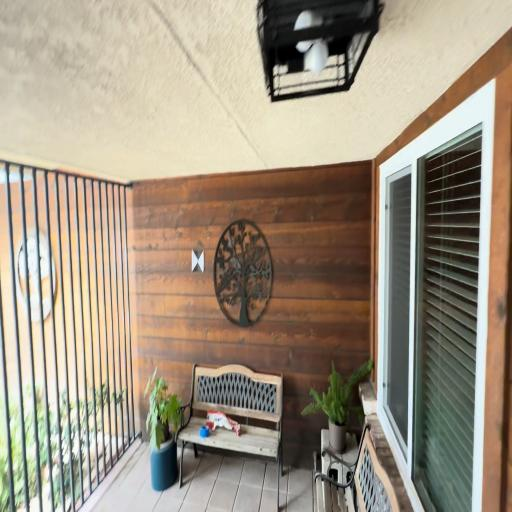target: (192, 249, 204, 272)
